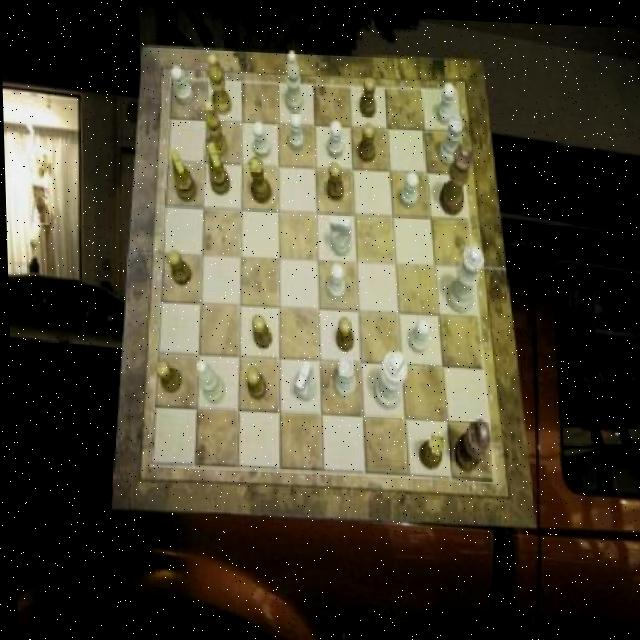bishop: (207, 52, 231, 114), (202, 98, 226, 157)
black-bishop: (451, 414, 489, 469)
black-king: (168, 147, 195, 200), (205, 141, 229, 194)
black-knight: (151, 359, 178, 394), (165, 247, 189, 284), (357, 120, 376, 160), (357, 74, 375, 115), (323, 159, 341, 198), (249, 313, 269, 348), (242, 365, 263, 398), (334, 313, 353, 348)
black-pawn: (437, 140, 474, 214)
black-queen: (247, 155, 271, 203), (415, 430, 443, 467)
black-rook: (194, 357, 222, 402), (285, 47, 304, 110)
white-bishop: (369, 346, 406, 406)
white-king: (327, 210, 350, 253), (290, 357, 314, 398)
white-knight: (170, 65, 193, 103), (436, 78, 456, 121), (406, 316, 430, 351), (251, 118, 270, 156), (398, 168, 418, 204), (325, 118, 343, 156), (288, 110, 305, 149), (325, 261, 343, 297)
white-pawn: (443, 242, 484, 310)
white-queen: (437, 112, 465, 162), (330, 355, 354, 397)
